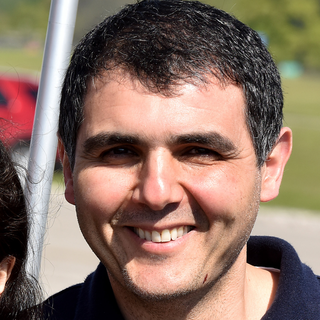eye: (174, 141, 227, 165), (92, 140, 142, 165)
